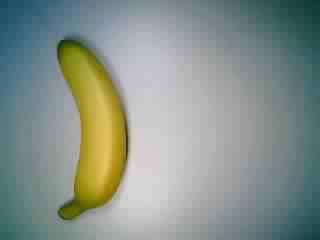banana: (50, 36, 133, 221)
